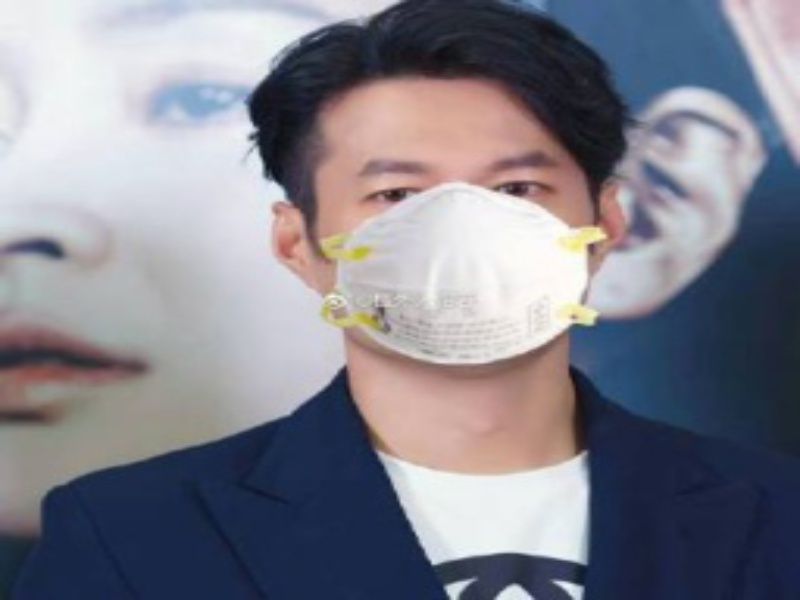ManaoArotava: (251, 38, 641, 387)
